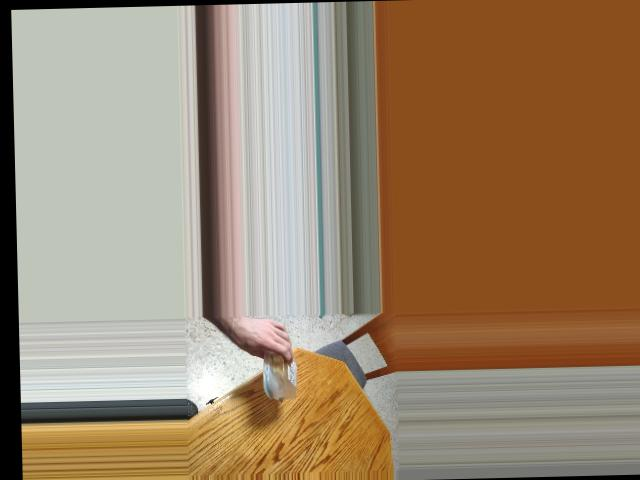cheese: (250, 330, 307, 396)
